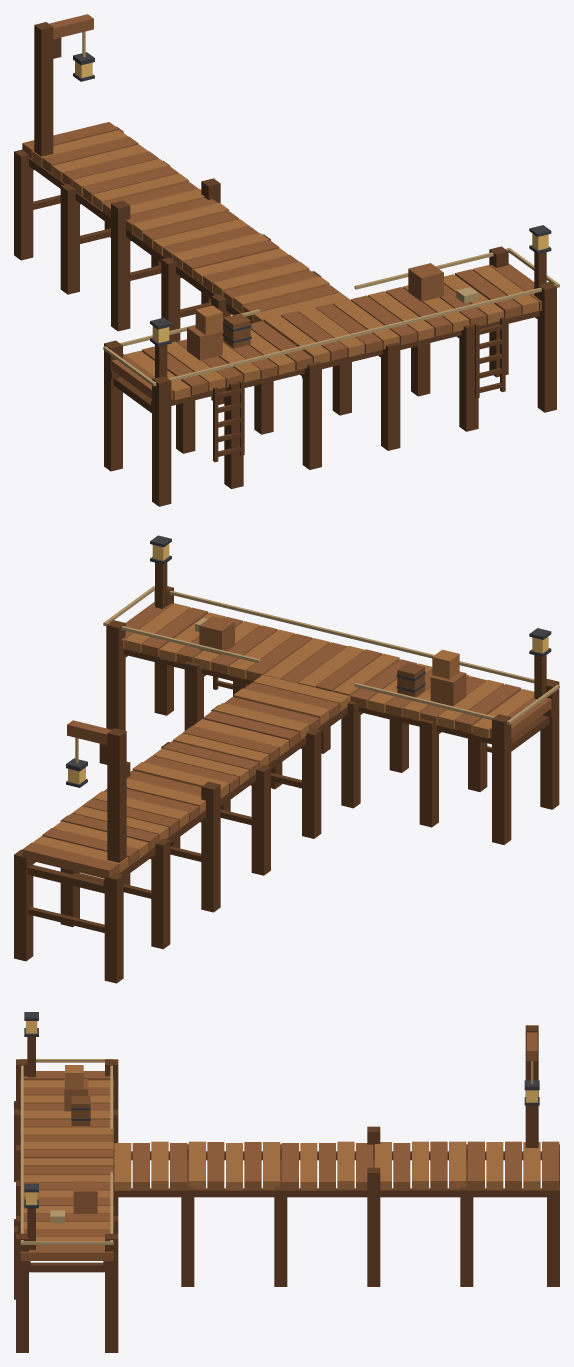
Rendered from Dock.obj.
3 views of the same model, one above another, from view 1: azimuth 30°, elevation 25°; view 2: azimuth 150°, elevation 25°; view 3: azimuth 270°, elevation 25° (orthographic). The views are drawn at different scales.
Parts seen in each view (by area): view 1: Dock; view 2: Dock; view 3: Dock.
Part boxes in pixels (x1,y1,x2,y2): Dock: [14, 14, 559, 506]; Dock: [14, 535, 559, 983]; Dock: [14, 1012, 559, 1352].
Size of the model in its own units: 46.7 by 26 by 58.7.
